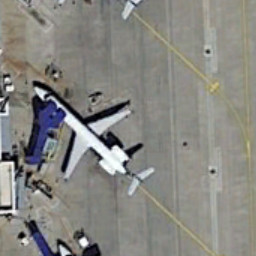Airplane: (26, 69, 158, 201)
